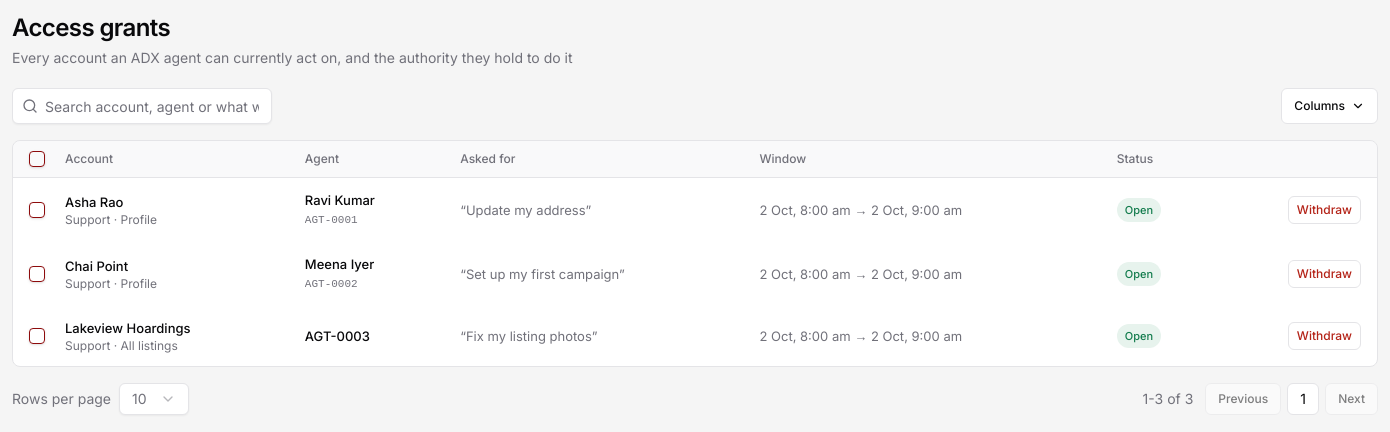
search › narrows the rows by account, agent and what was asked
This screenshot has width=1390, height=432.
Expected: the text "Asha Rao" is shown, [65,194,123,210]
Type "meena" into the field with placeholder "Search account, agent or what was asked".
click(142, 106); type("meena")  # box [12,88,272,124]
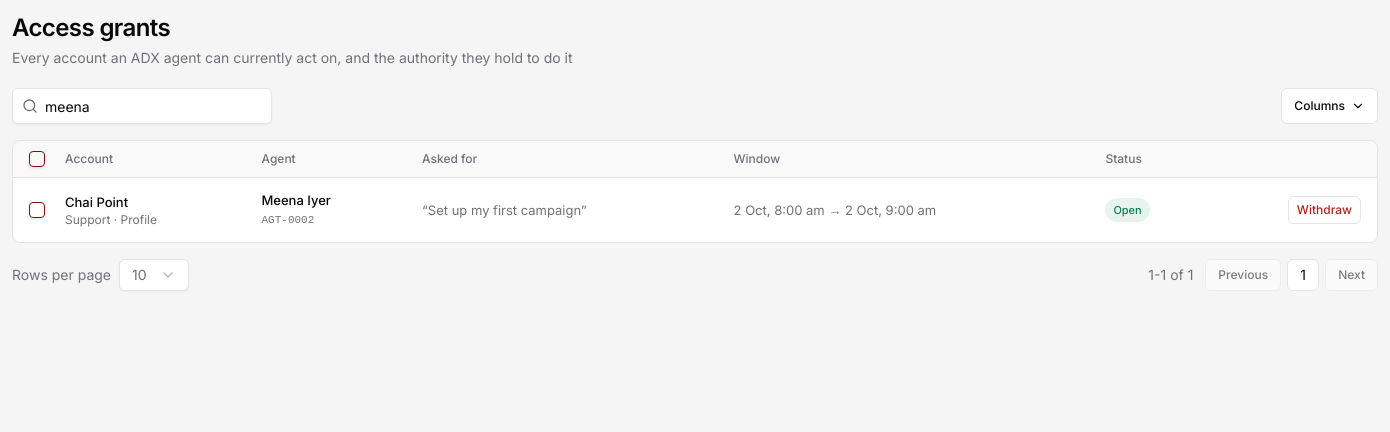
Expected: the text "Chai Point" is shown, [65,194,128,210]
Now the text "Asha Rao" is gone
Replace the text in the field with placeholder "Search account, agent or what was asked" with "AGT-0003" at (142, 106), box [12,88,272,124]
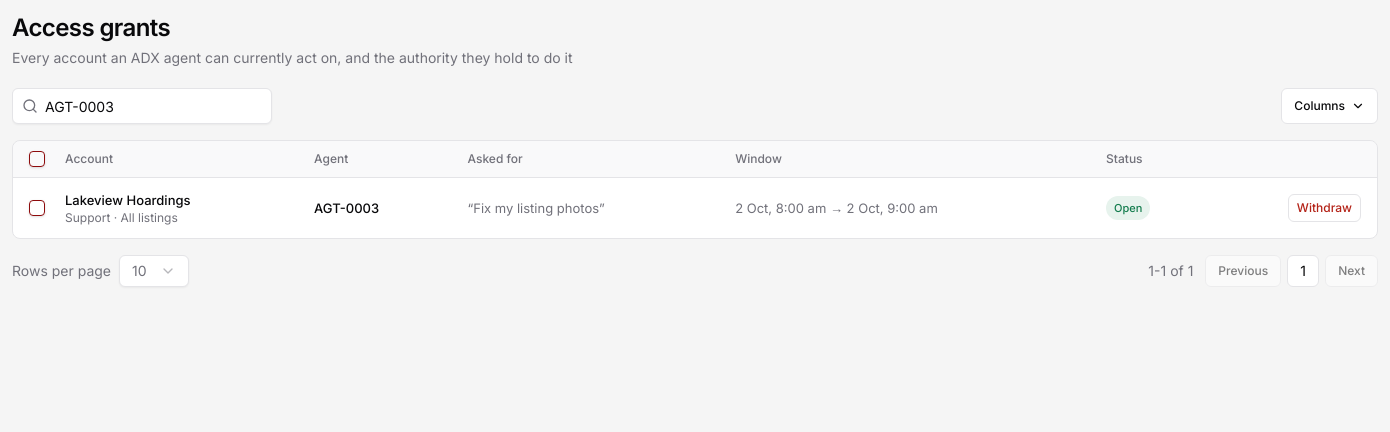
Now the text "Lakeview Hoardings" is shown, box [65,192,190,208]
Now the text "Chai Point" is gone
Replace the text in the field with placeholder "Search account, agent or what was asked" with "address" at (142, 106), box [12,88,272,124]
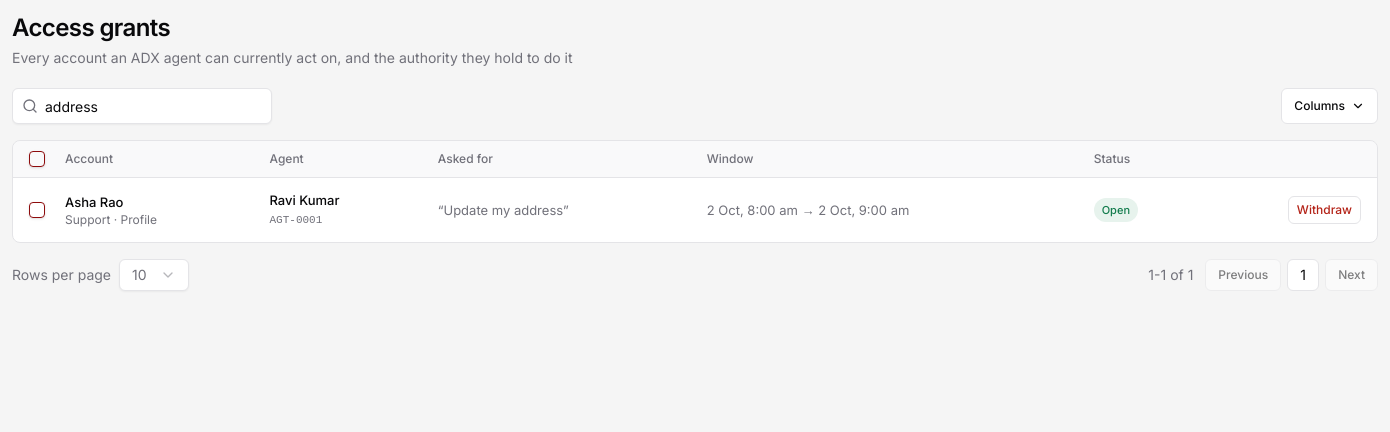
Now the text "Asha Rao" is shown, box [65,194,123,210]
Now the text "Lakeview Hoardings" is gone
